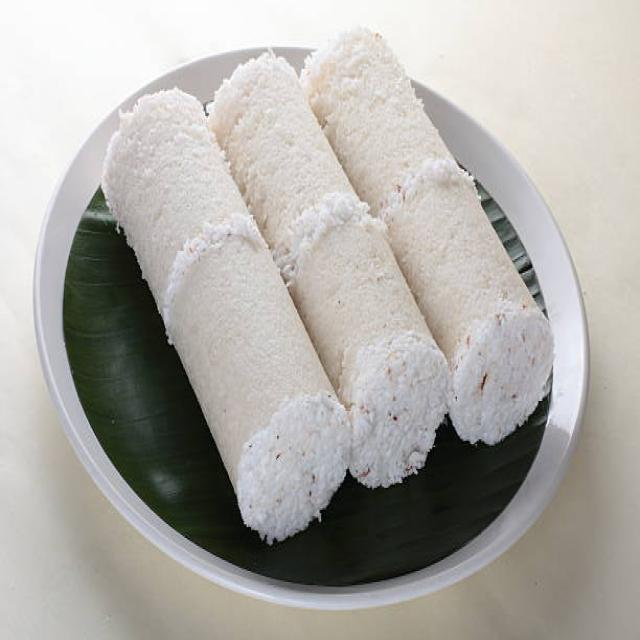PUTTU: (95, 19, 571, 549)
